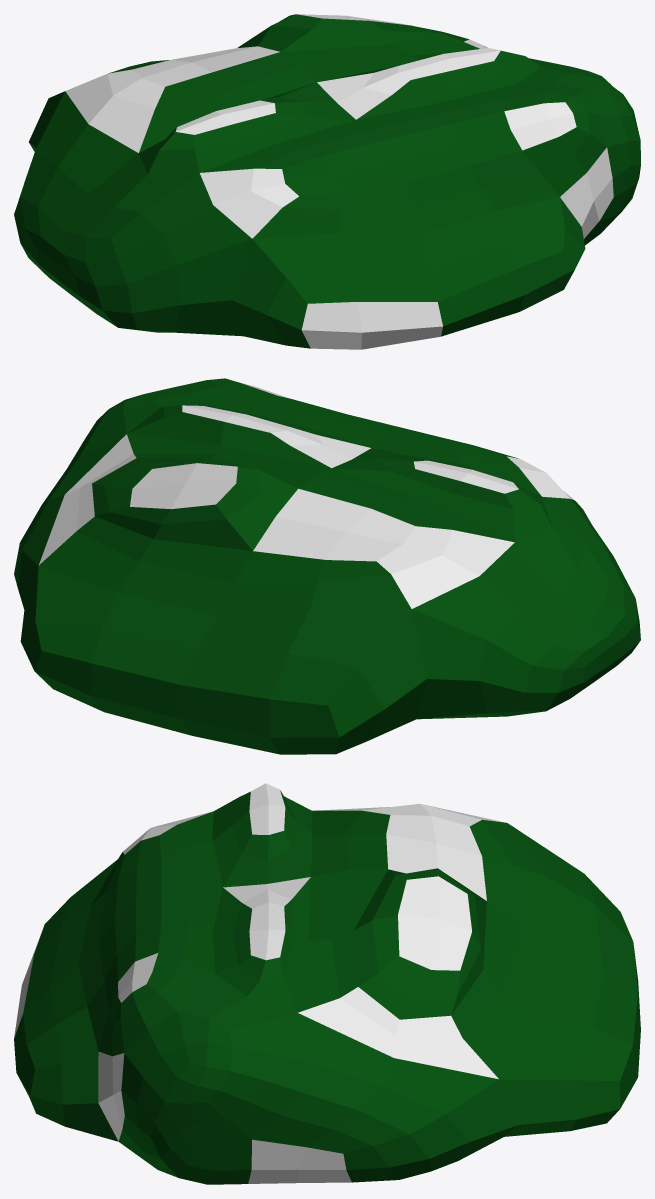
The model's file is mintybush.fbx.
3 views of the same model, one above another, from view 1: azimuth 30°, elevation 25°; view 2: azimuth 150°, elevation 25°; view 3: azimuth 270°, elevation 25° (orthographic). The views are drawn at different scales.
Parts seen in each view (by area): view 1: Cube; view 2: Cube; view 3: Cube.
Boxes of the visible parts, x1=… form: Cube: x1=14, y1=14, x2=640, y2=349; Cube: x1=14, y1=378, x2=640, y2=754; Cube: x1=14, y1=783, x2=640, y2=1184.
Size of the model in its own units: 798 by 272 by 725.
